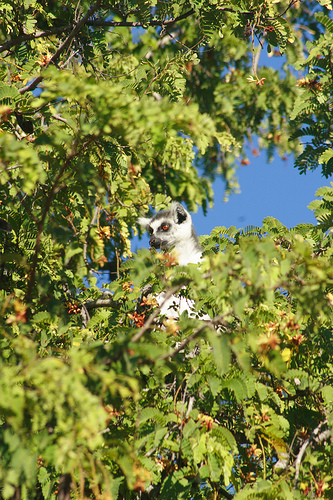cat: (132, 196, 207, 327)
